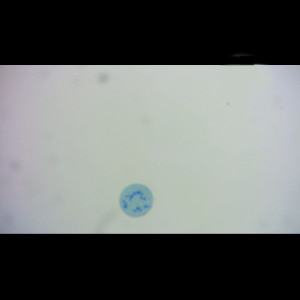aggregate reticulocyte: (118, 183, 154, 219)
